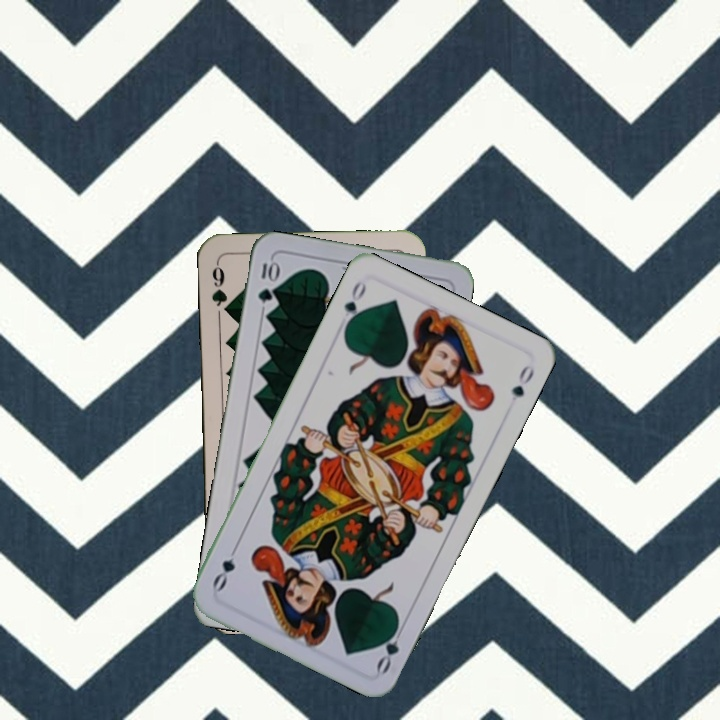G10: (254, 256, 281, 306)
G9: (207, 259, 233, 318)
GO: (372, 617, 408, 676), (339, 277, 369, 333)
